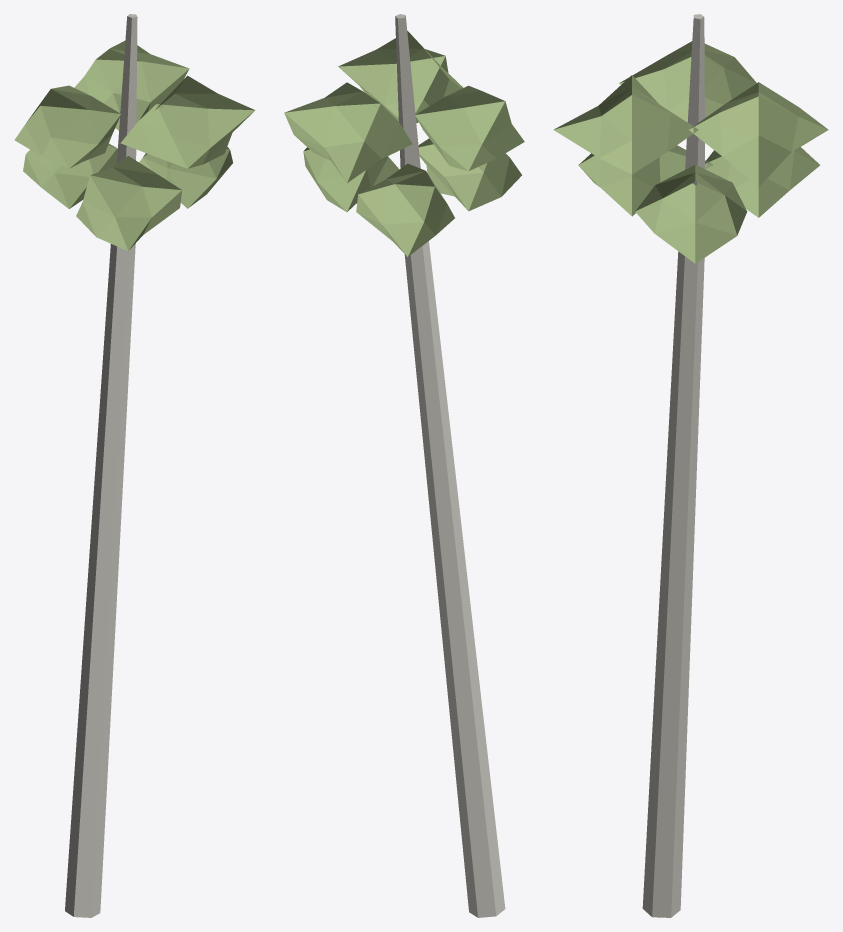
The model's file is birch_v23.glb.
The picture shows the model from 3 angles, left to right: view 1: azimuth 30°, elevation 25°; view 2: azimuth 150°, elevation 25°; view 3: azimuth 270°, elevation 25°; orthographic projection. The views are drawn at different scales.
Parts seen in each view (by area): view 1: lod0; view 2: lod0; view 3: lod0.
Part boxes in pixels (x1,y1,x2,y2): lod0: (14, 14, 255, 917); lod0: (284, 14, 524, 917); lod0: (553, 14, 828, 917).
Size of what is drawn, in the model's own units: 1.82 by 7.01 by 1.88.
